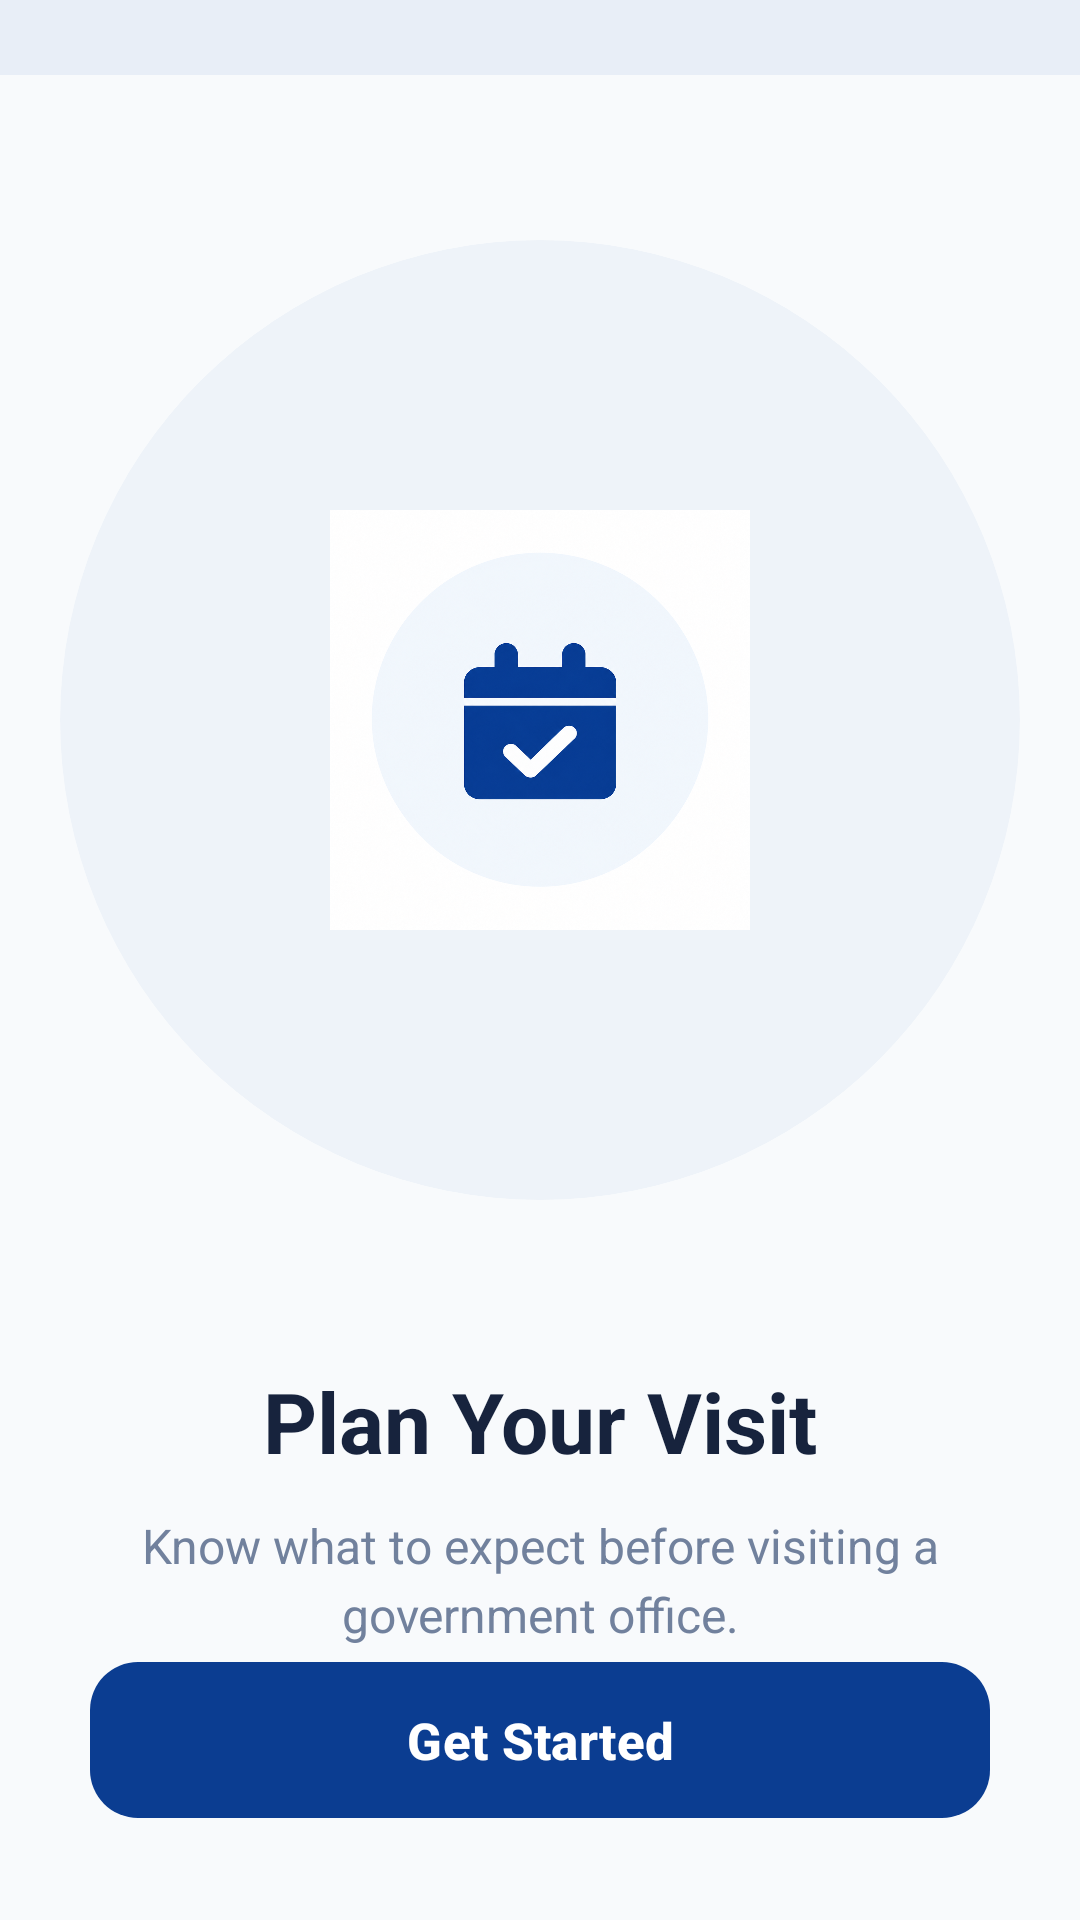

Screen size 1080w x 1920h. Icon name, then its box in pixels as (x1, y1, x2, y2):
Plan your government office visit: (464, 643, 616, 800)
